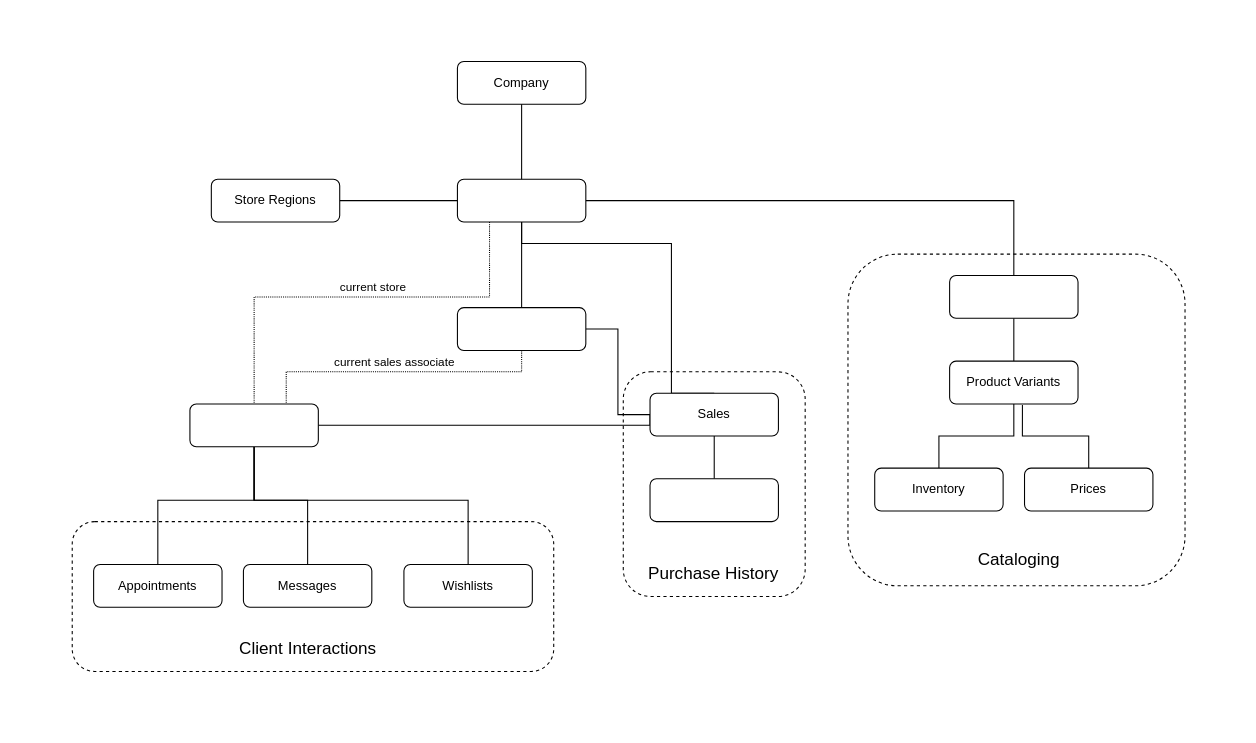
Some shapes in this 1256 by 743 pixel diagram are drawn without their labels. The shapes that lost their labels are listed below. From the top down, each one's box as (x1, y1, x2, y2) in pixels, then its label:
(456, 178, 586, 222): Stores
(949, 274, 1078, 318): Products
(456, 307, 586, 350): Sales Associates
(189, 403, 318, 447): Shoppers
(649, 478, 778, 522): Line Items
